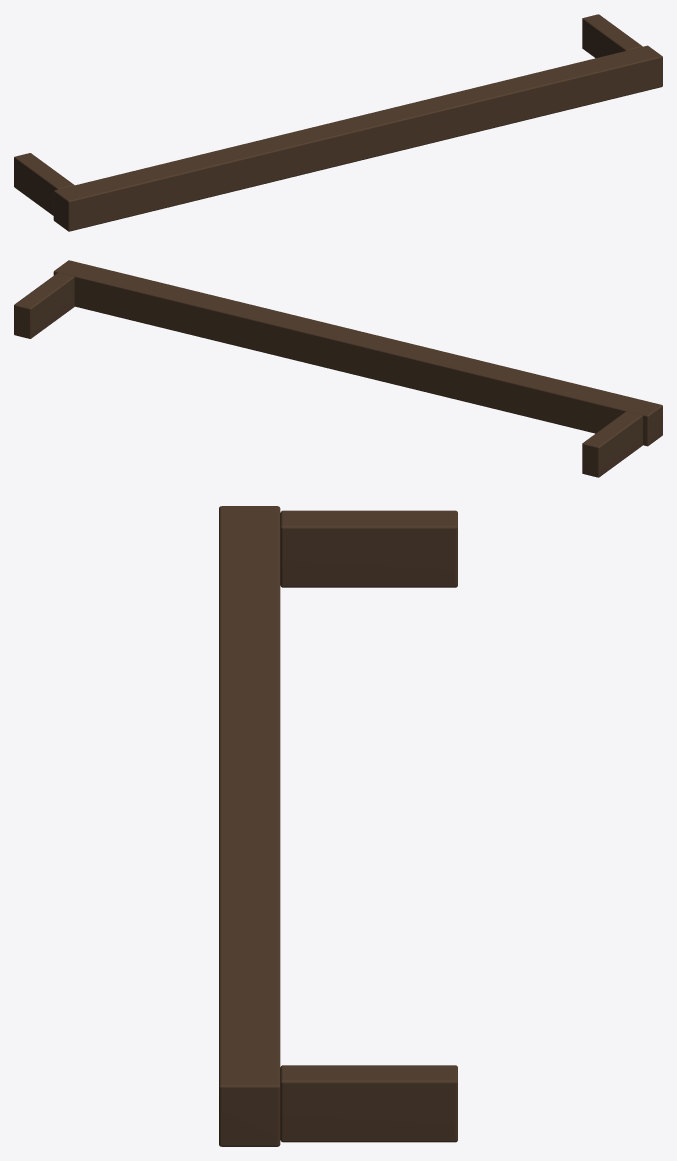
The model's file is eurofit-h-61415-192orb.glb.
3 renders of one model, top to bottom at view 1: azimuth 30°, elevation 25°; view 2: azimuth 150°, elevation 25°; view 3: azimuth 270°, elevation 25°, orthographic. The views are drawn at different scales.
Visible parts, largest first — view 1: Rectangular grip, Mounting standoff, Mounting standoff.001; view 2: Rectangular grip, Mounting standoff, Mounting standoff.001; view 3: Rectangular grip, Mounting standoff, Mounting standoff.001.
Part boxes in pixels (x1,y1,x2,y2): Rectangular grip: (53,45,662,231); Mounting standoff: (14,153,74,215); Mounting standoff.001: (582,14,642,58); Rectangular grip: (53,260,662,446); Mounting standoff: (582,411,642,477); Mounting standoff.001: (14,272,74,338); Rectangular grip: (219,506,280,1146); Mounting standoff: (280,510,457,587); Mounting standoff.001: (280,1065,457,1142).
Size of the model in its own units: 0.201 by 0.01 by 0.035.
